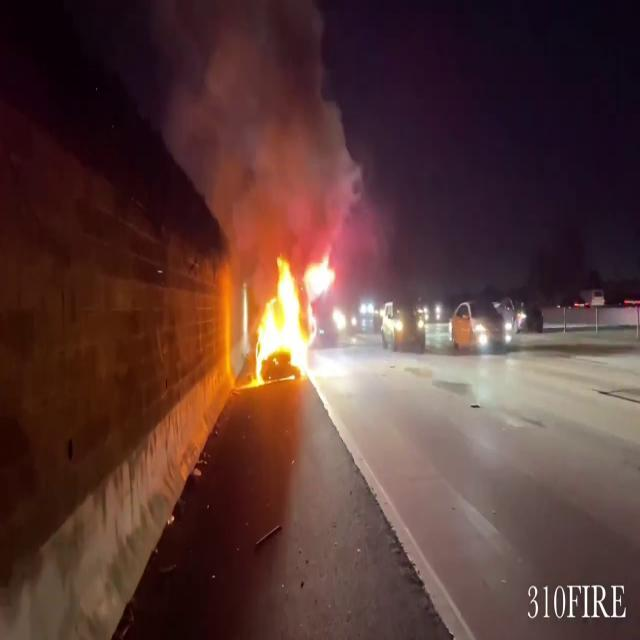Fire: (242, 244, 337, 386)
Smoke: (174, 0, 360, 252)
